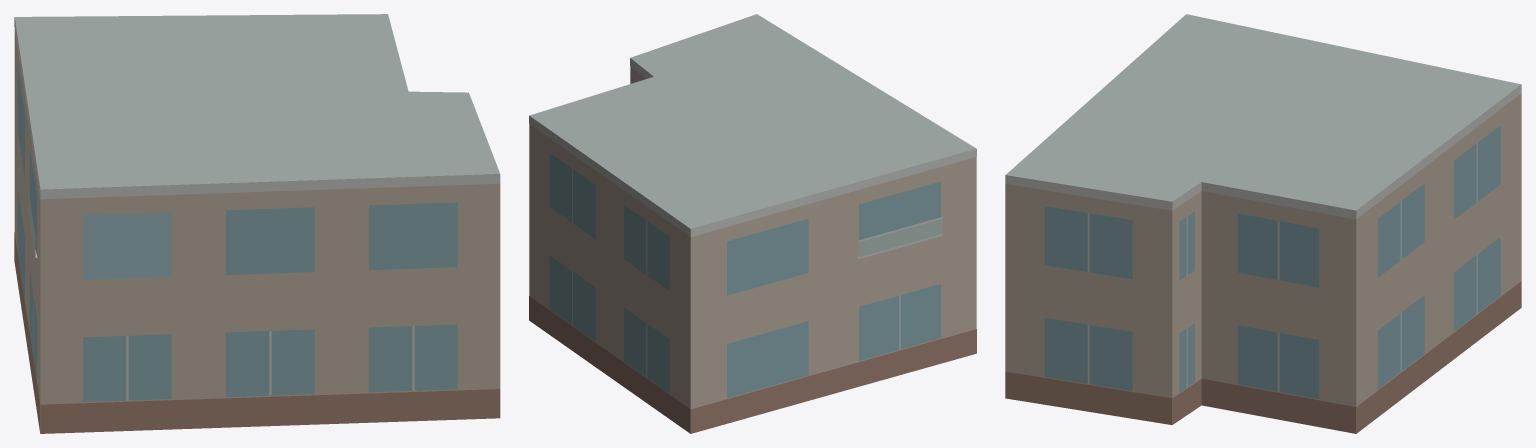
Rendered from survey-upis-32875876.glb.
The picture shows the model from 3 angles, left to right: view 1: azimuth 30°, elevation 25°; view 2: azimuth 150°, elevation 25°; view 3: azimuth 270°, elevation 25°; orthographic projection. The views are drawn at different scales.
Visible parts, largest first — view 1: survey-upis-32875876.tmp; view 2: survey-upis-32875876.tmp; view 3: survey-upis-32875876.tmp.
Part boxes in pixels (box(x1,y1,x2,y2)): survey-upis-32875876.tmp: box(14, 14, 500, 433); survey-upis-32875876.tmp: box(529, 14, 976, 433); survey-upis-32875876.tmp: box(1005, 14, 1521, 433).
Bounding box in the file's own units: 11.52 × 6.1 × 12.79.
